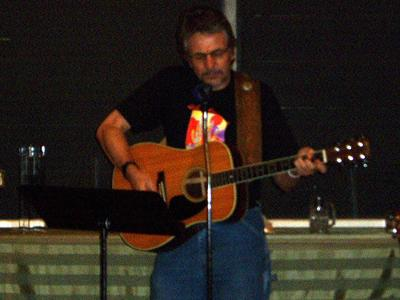person: (95, 11, 328, 298)
